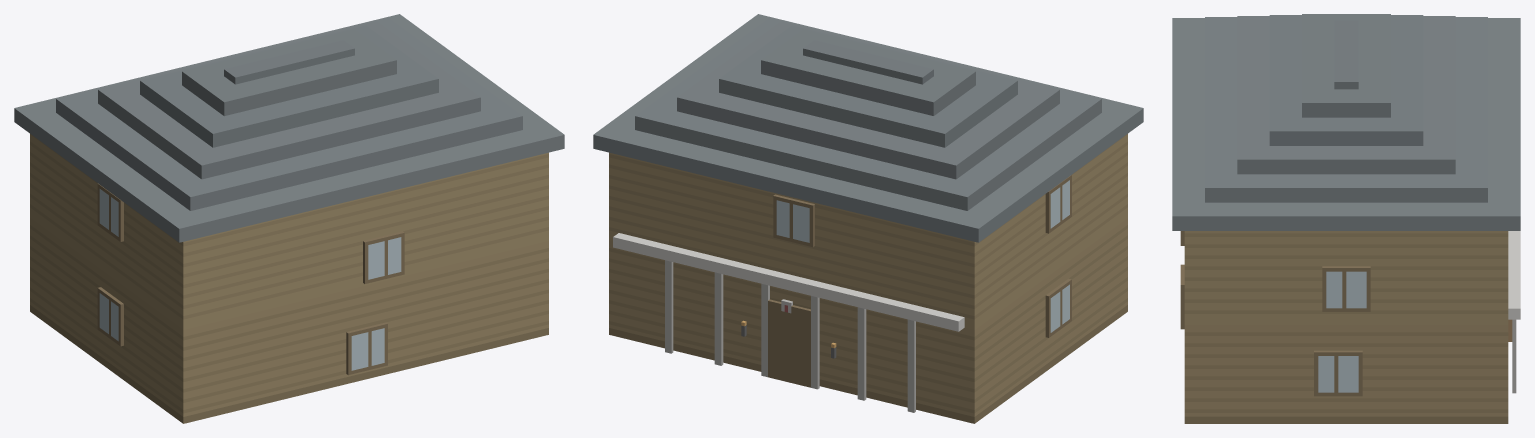
File: escuela_02.glb
3 renders of one model, left to right at view 1: azimuth 30°, elevation 25°; view 2: azimuth 150°, elevation 25°; view 3: azimuth 270°, elevation 25°, orthographic. The views are drawn at different scales.
Visible parts, largest first — view 1: escuela_02; view 2: escuela_02; view 3: escuela_02.
Boxes of the visible parts, bbox=[...] form: escuela_02: bbox=[14, 14, 564, 423]; escuela_02: bbox=[593, 14, 1143, 423]; escuela_02: bbox=[1172, 14, 1520, 423].
Size of the model in its own units: 11.6 by 7.6 by 8.6.
